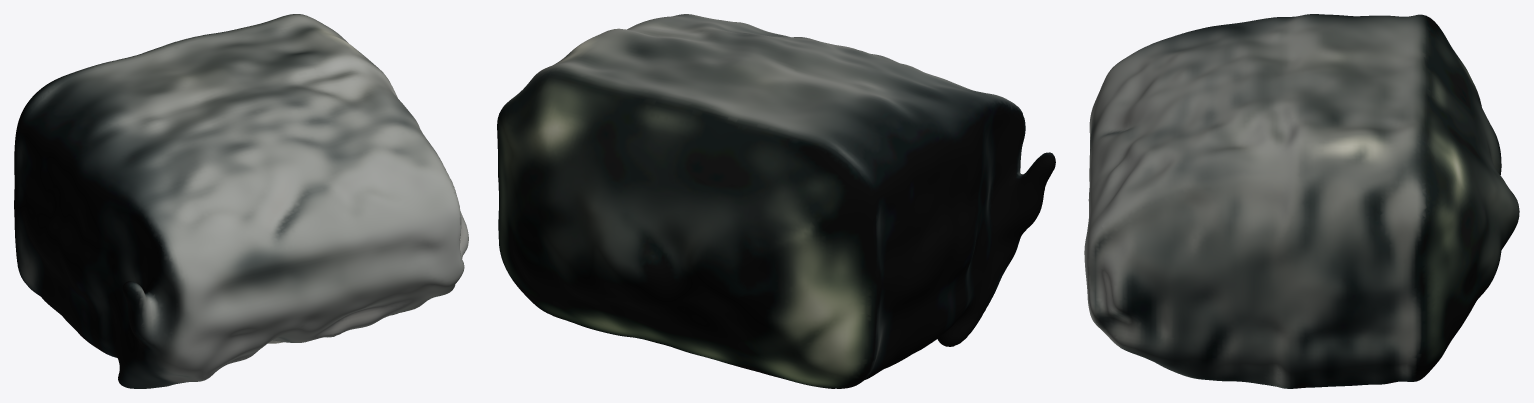
File: lunch_bag.glb
3 renders of one model, left to right at view 1: azimuth 30°, elevation 25°; view 2: azimuth 150°, elevation 25°; view 3: azimuth 270°, elevation 25°, orthographic. The views are drawn at different scales.
Size of the model in its own units: 0.9995 by 0.6496 by 0.9328.
